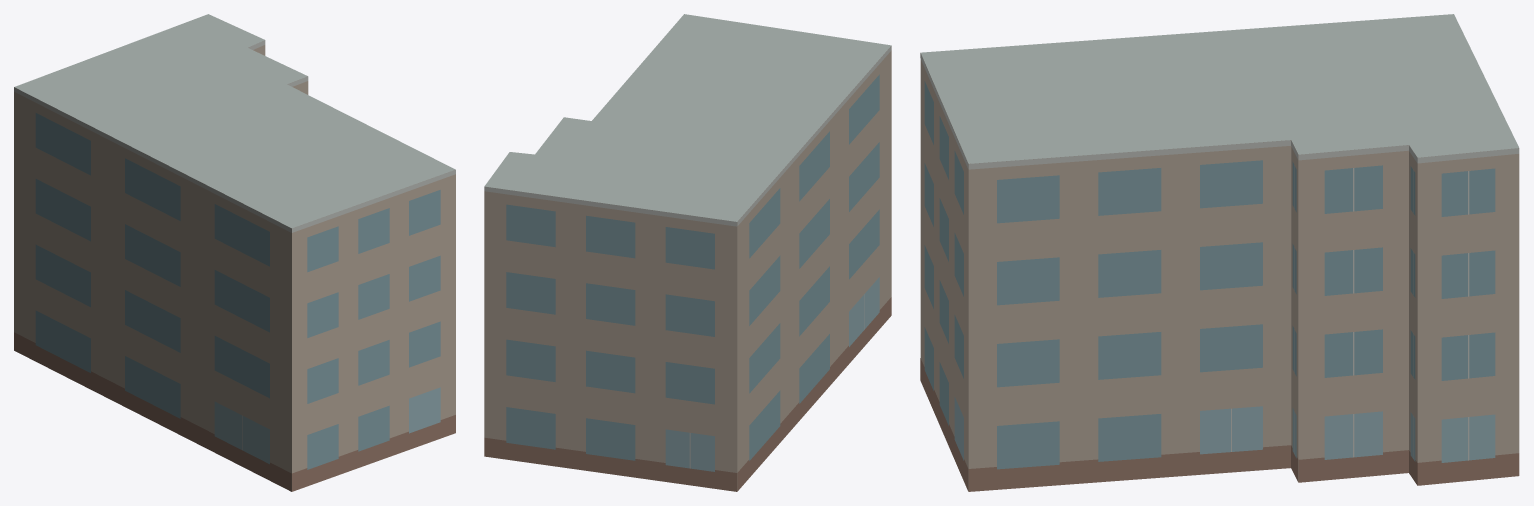
The model's file is survey-upis-32879057.glb.
3 renders of one model, left to right at view 1: azimuth 30°, elevation 25°; view 2: azimuth 150°, elevation 25°; view 3: azimuth 270°, elevation 25°, orthographic. The views are drawn at different scales.
Parts seen in each view (by area): view 1: survey-upis-32879057.tmp; view 2: survey-upis-32879057.tmp; view 3: survey-upis-32879057.tmp.
Boxes of the visible parts, <box> form: survey-upis-32879057.tmp: <box>14,14,455,491</box>; survey-upis-32879057.tmp: <box>484,14,891,491</box>; survey-upis-32879057.tmp: <box>920,14,1519,491</box>.
Size of the model in its own units: 13.66 by 13.93 by 23.06.
